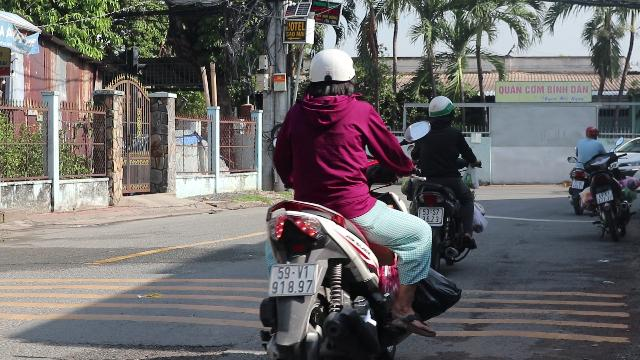helmet: (305, 48, 357, 98), (426, 95, 456, 127)
licenseplate: (268, 264, 316, 296), (419, 207, 443, 225)
motorcyclist: (254, 47, 462, 357), (401, 94, 487, 272)
